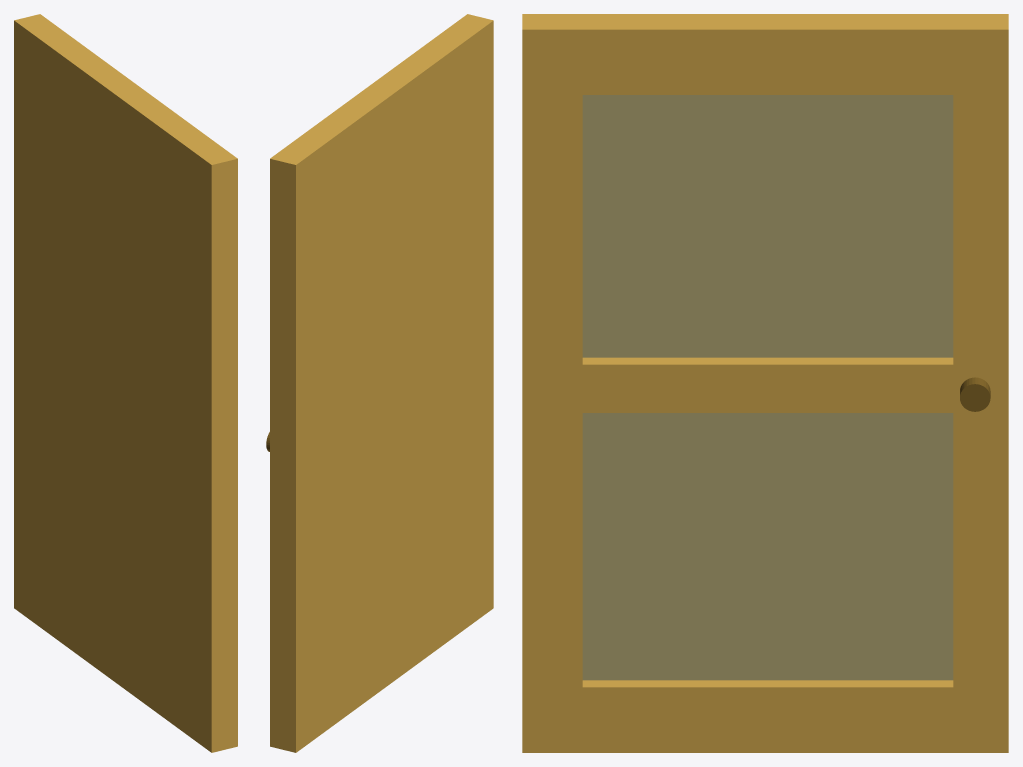
Rendered from door_yellow.fbx.
3 views of the same model, side by side, from view 1: azimuth 30°, elevation 25°; view 2: azimuth 150°, elevation 25°; view 3: azimuth 270°, elevation 25° (orthographic). The views are drawn at different scales.
Visible parts, largest first — view 1: Cube; view 2: Cube; view 3: Cube, Cylinder.
Boxes of the visible parts, bbox=[...] form: Cube: bbox=[14, 14, 237, 752]; Cube: bbox=[270, 14, 493, 752]; Cube: bbox=[522, 14, 1008, 752]; Cylinder: bbox=[960, 377, 990, 411].
Bounding box in the file's own units: 64.76 × 977 × 595.
